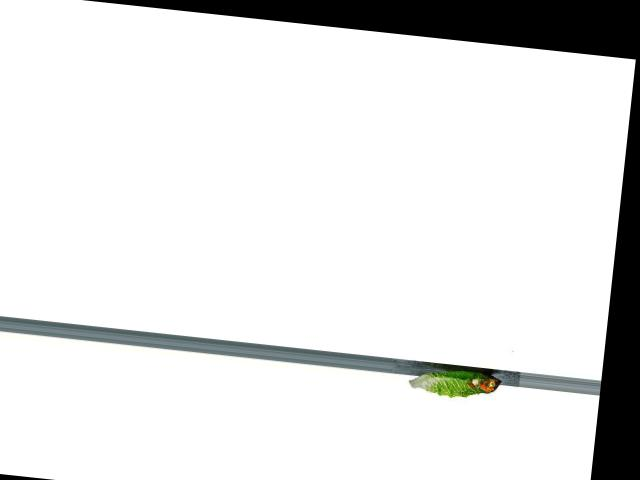lettuce: (406, 359, 506, 405)
